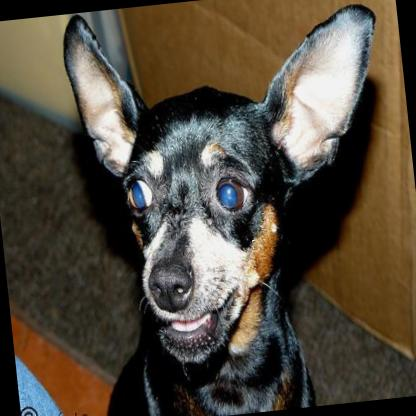miniature_pinscher: (54, 0, 415, 416)
